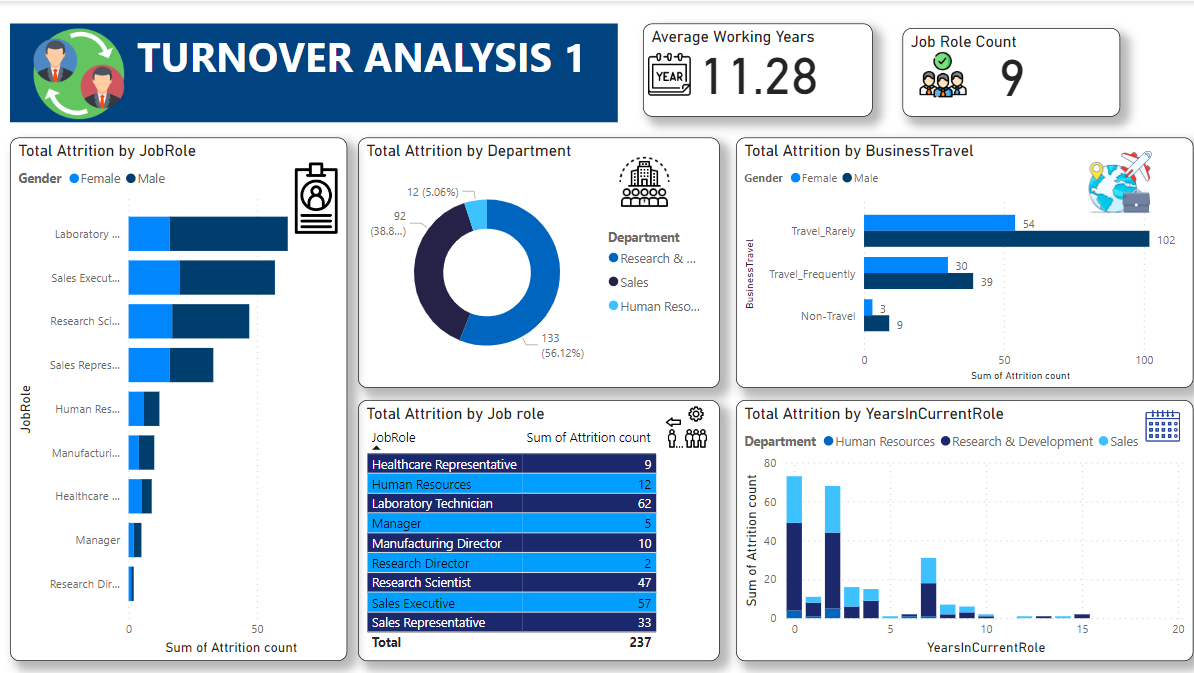

This screenshot's page, from the dashboard's own definition file:
{"tool":"powerbi","page":{"name":"Page 2","canvas":[1280,720],"ordinal":1},"visuals":[{"type":"clusteredBarChart","title":"Total Attrition by BusinessTravel ","fields":{"Category":["HR-Employee-Attrition.BusinessTravel"],"Y":["Sum(HR-Employee-Attrition.Attrition count)"],"Series":["HR-Employee-Attrition.Gender"]},"box":[782,144.6,484.8,265.4],"z":0},{"type":"donutChart","title":"Total Attrition by Department","fields":{"Category":["HR-Employee-Attrition.Department"],"Y":["Sum(HR-Employee-Attrition.Attrition count)"]},"box":[381.5,144.6,383,265.4],"z":1000},{"type":"columnChart","title":"Total Attrition by YearsInCurrentRole ","fields":{"Category":["HR-Employee-Attrition.YearsInCurrentRole"],"Y":["Sum(HR-Employee-Attrition.Attrition count)"],"Series":["HR-Employee-Attrition.Department"]},"box":[782,422.8,484.8,276.6],"z":2000},{"type":"tableEx","title":"Total Attrition by Job role","fields":{"Values":["HR-Employee-Attrition.JobRole","Sum(HR-Employee-Attrition.Attrition count)"]},"box":[381.5,422.8,383,276.6],"z":3000},{"type":"card","title":"Job Role Count","fields":{"Values":["Count(HR-Employee-Attrition.JobRole)"]},"box":[958.4,28.6,230.5,93.8],"z":4000},{"type":"card","title":"Average Working Years","fields":{"Values":["Avg(HR-Employee-Attrition.TotalWorkingYears)"]},"box":[683.4,23.8,243.2,98.5],"z":5000},{"type":"textbox","box":[12.7,23.8,643.7,104.9],"z":6000},{"type":"barChart","title":"Total Attrition by JobRole","fields":{"Category":["HR-Employee-Attrition.JobRole"],"Y":["Sum(HR-Employee-Attrition.Attrition count)"],"Series":["HR-Employee-Attrition.Gender"]},"box":[12.7,144.6,357.6,554.7],"z":7000},{"type":"image","box":[1142.8,152.6,92.2,77.9],"z":8000},{"type":"image","box":[27,23.8,117.6,106.5],"z":9000},{"type":"image","box":[683.4,47.7,55.6,60.4],"z":10000},{"type":"image","box":[958.4,47.7,85.8,60.4],"z":11000},{"type":"image","box":[1195.2,422.8,77.9,52.5],"z":12000},{"type":"image","box":[631,158.9,108.1,65.2],"z":13000},{"type":"image","box":[292.5,158.9,89,100.1],"z":14000},{"type":"image","box":[683.4,422.8,92.2,57.2],"z":15000}]}

Visuals, with their boxes in screenshot pixels (x1, y1, x2, y2), scaled from the page's 1280x720 canvas onto the 1194x673 screenshot:
"Total Attrition by BusinessTravel " clusteredBarChart: rect(729, 135, 1182, 383)
"Total Attrition by Department" donutChart: rect(356, 135, 713, 383)
"Total Attrition by YearsInCurrentRole " columnChart: rect(729, 395, 1182, 654)
"Total Attrition by Job role" tableEx: rect(356, 395, 713, 654)
"Job Role Count" card: rect(894, 27, 1109, 114)
"Average Working Years" card: rect(637, 22, 864, 114)
textbox: rect(12, 22, 612, 120)
"Total Attrition by JobRole" barChart: rect(12, 135, 345, 654)
image: rect(1066, 143, 1152, 215)
image: rect(25, 22, 135, 122)
image: rect(637, 45, 689, 101)
image: rect(894, 45, 974, 101)
image: rect(1115, 395, 1188, 444)
image: rect(589, 149, 689, 209)
image: rect(273, 149, 356, 242)
image: rect(637, 395, 723, 449)
